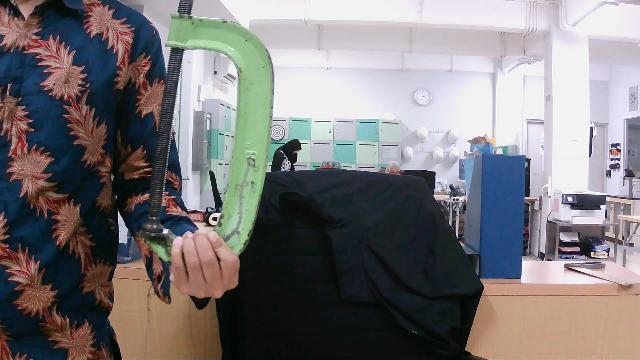tekiro_c_clamp: (129, 0, 279, 314)
